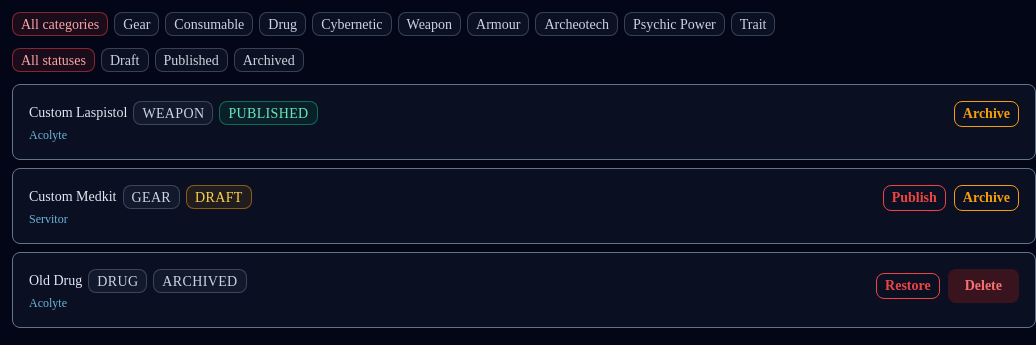
Scenario: CustomItemLibraryAdmin › shows empty state when no items match the filter
Click the button "Consumable" at (209, 24), box [165, 12, 253, 36]
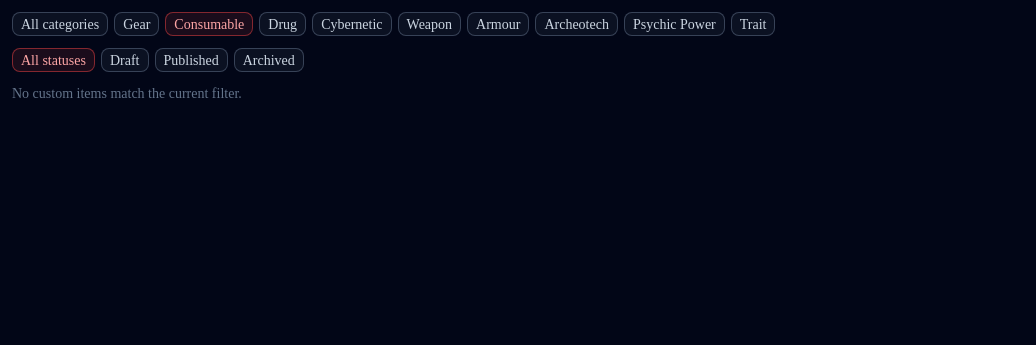
Result: the text "No custom items match the current filter." is shown at [12, 86, 242, 101]
